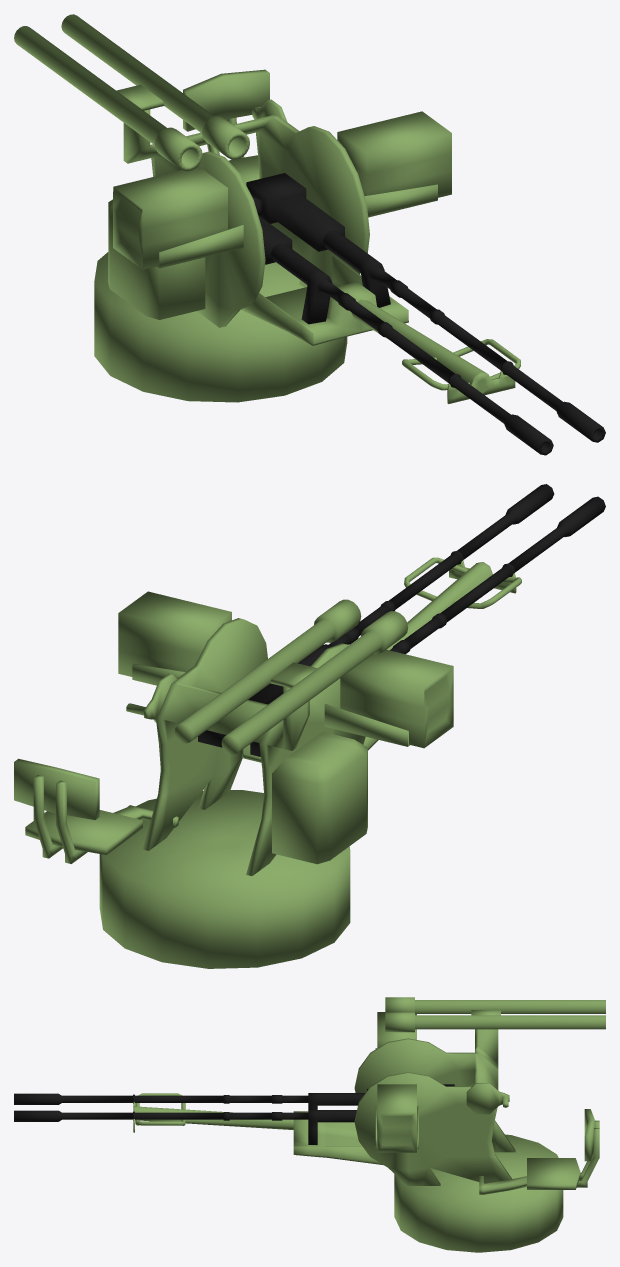
Rendered from zu_23_flak_gun.fbx.
3 views of the same model, one above another, from view 1: azimuth 30°, elevation 25°; view 2: azimuth 150°, elevation 25°; view 3: azimuth 270°, elevation 25° (orthographic). The views are drawn at different scales.
Parts seen in each view (by area): view 1: zu_23; view 2: zu_23; view 3: zu_23.
Boxes of the visible parts, <box> form: zu_23: <box>14,14,605,455</box>; zu_23: <box>14,484,605,968</box>; zu_23: <box>14,997,605,1252</box>.
Size of the model in its own units: 1.86 by 1.62 by 4.66.
